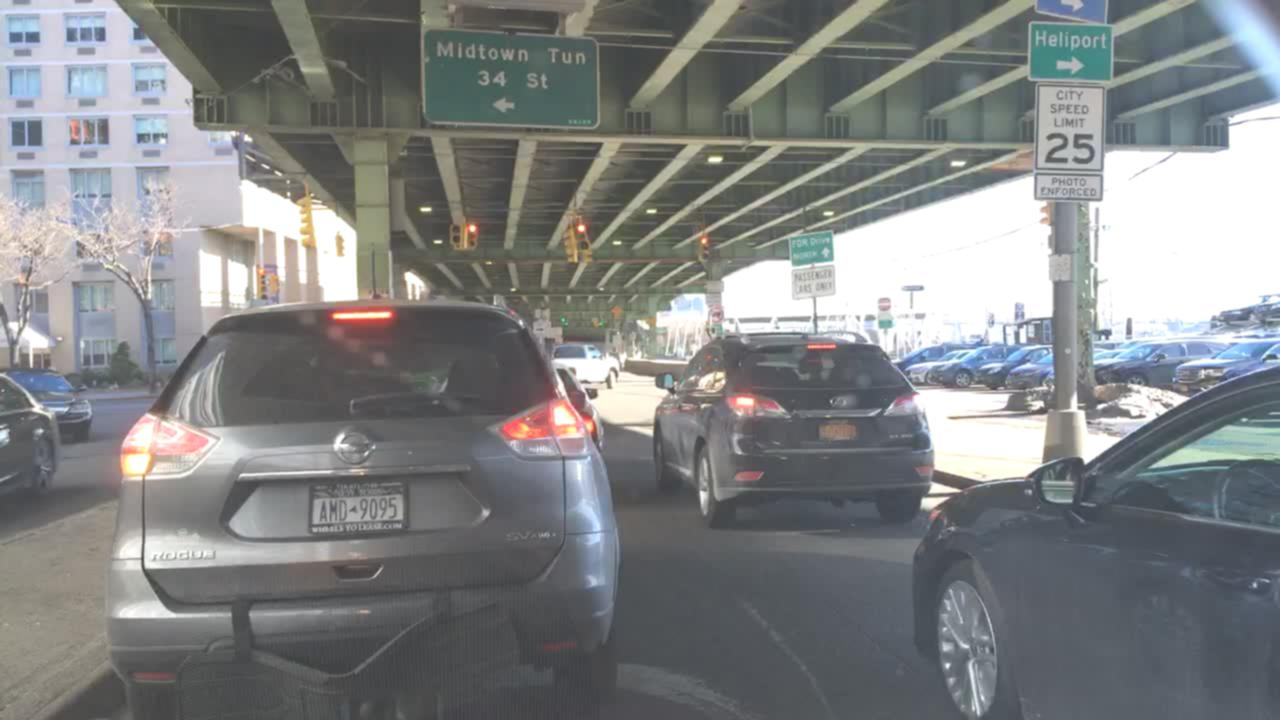Nissan: (319, 423, 391, 464)
lexus: (824, 391, 850, 412)
